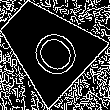O_NW: (14, 13, 79, 79)
